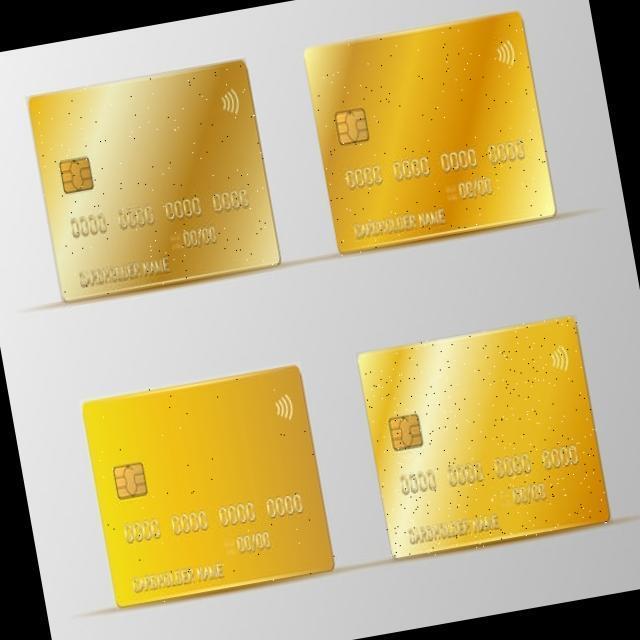payment_card: (26, 57, 281, 302), (356, 314, 610, 559), (80, 363, 335, 607)
